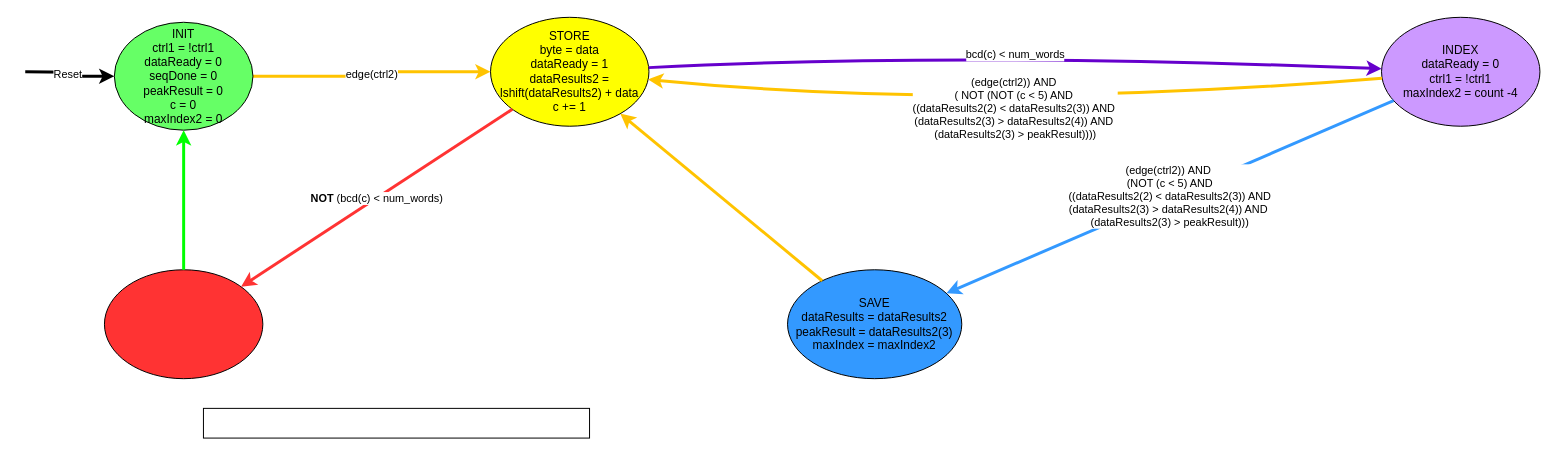
This 1557x455 diagram has some shape labels left out. Here are the shapes that lost their labels. From the top down, the centre of each, then its label:
At point (183, 324): "DONE seqDone = 1".
At point (396, 422): "All of the arrows, are also detecting for rising_edge(clk) AND Start = 1".
